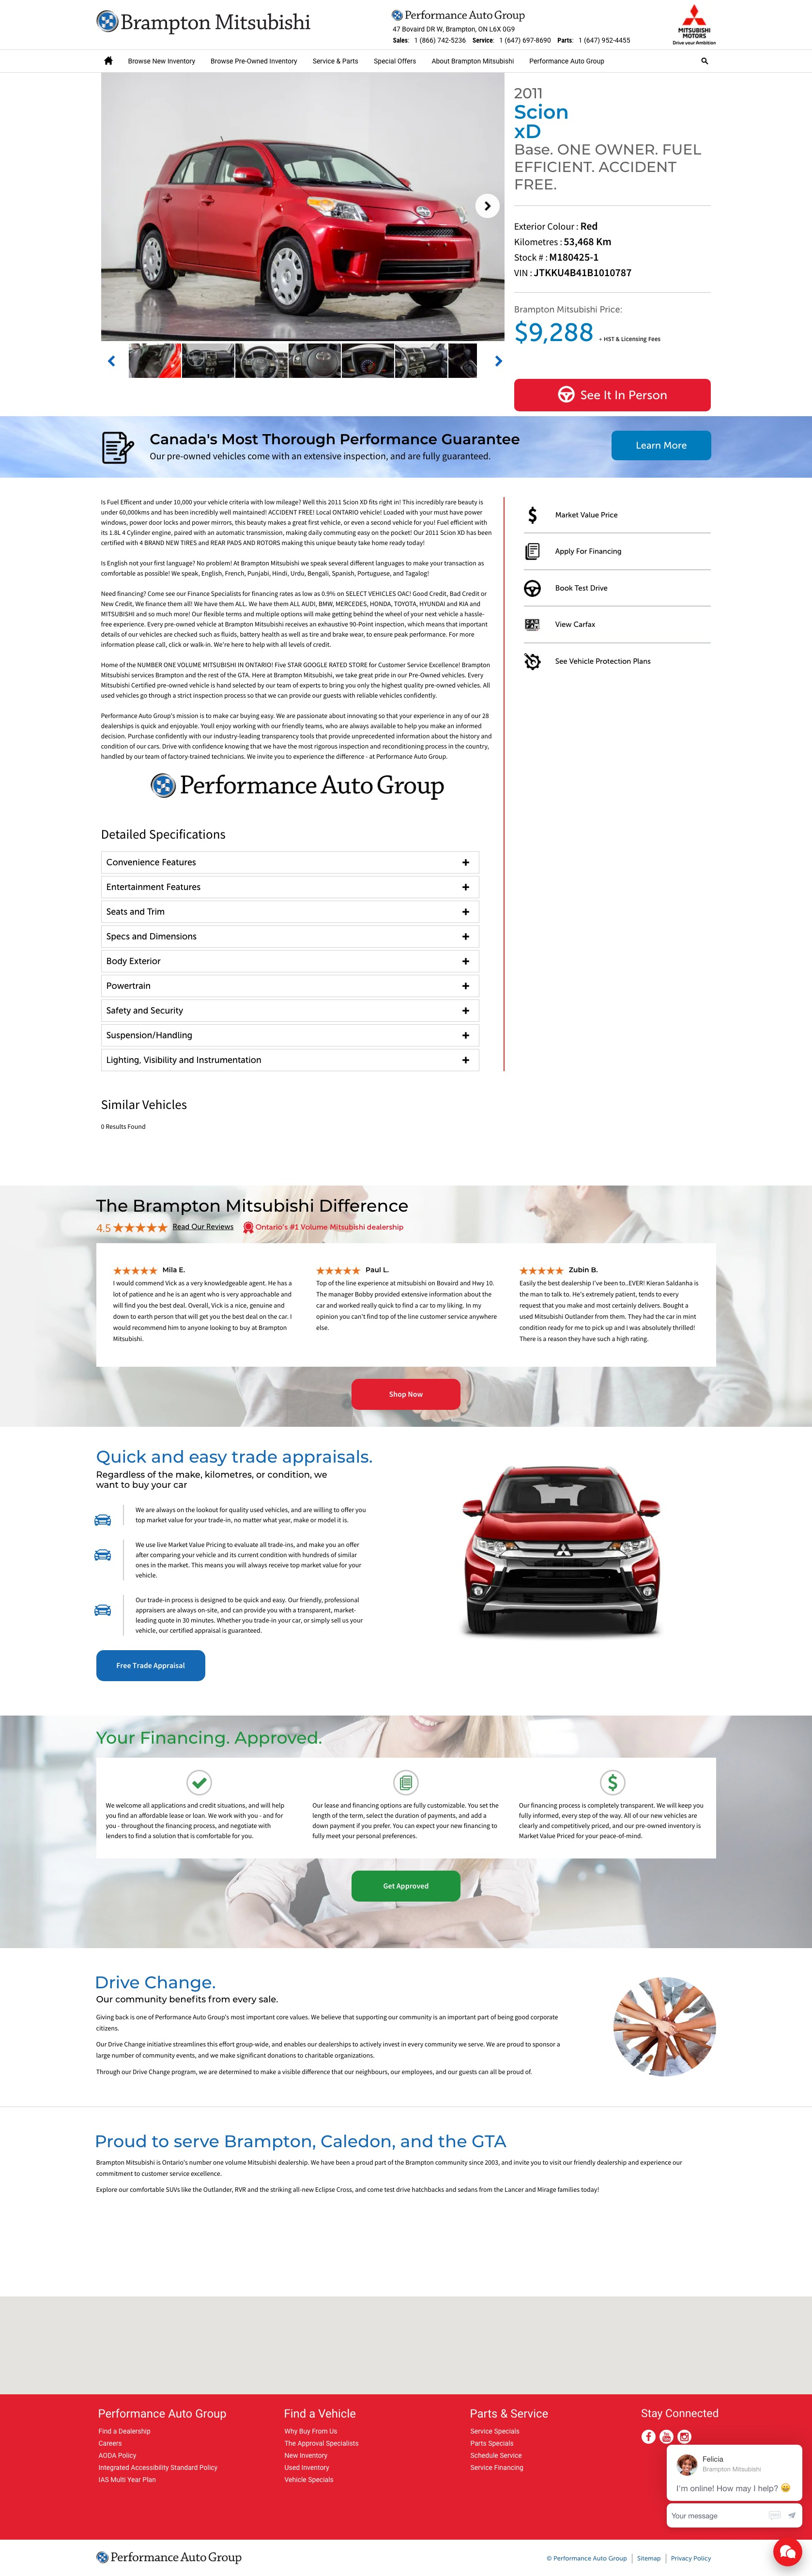car: (494, 356, 502, 366)
